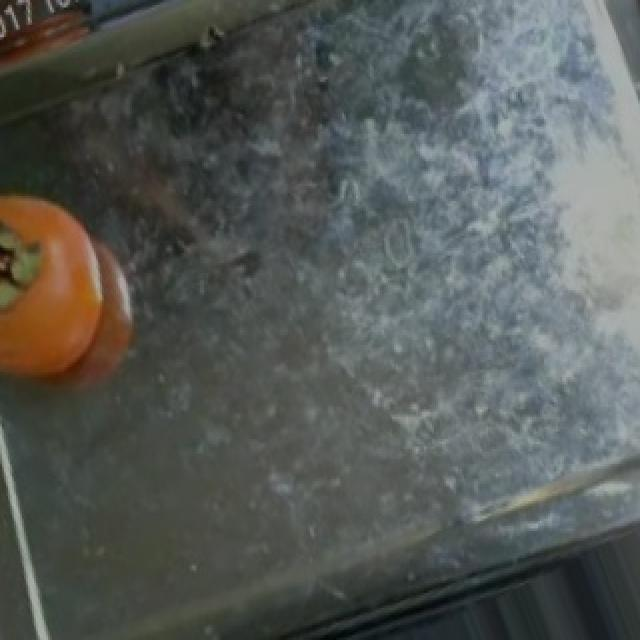Fruit: (0, 174, 124, 406)
